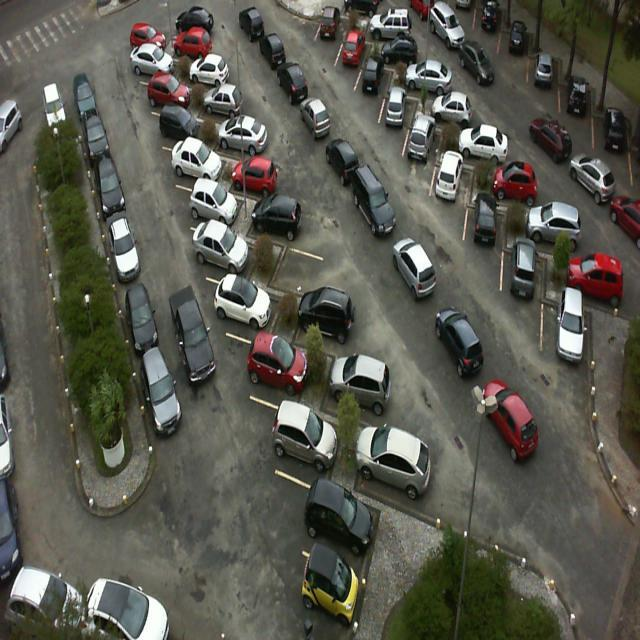space-empty: (272, 235, 337, 297)
space-occupied: (304, 468, 388, 582), (271, 390, 348, 479), (317, 353, 388, 431), (365, 425, 432, 507), (245, 326, 312, 406), (223, 270, 286, 343), (302, 288, 362, 358), (570, 260, 630, 322), (542, 303, 591, 374), (204, 224, 262, 281), (254, 192, 315, 246), (192, 176, 248, 234), (237, 148, 295, 200), (533, 205, 585, 263), (468, 198, 507, 272), (503, 241, 543, 312), (202, 78, 258, 127), (496, 165, 552, 214), (171, 139, 224, 188), (431, 163, 472, 225), (400, 122, 442, 182), (158, 101, 207, 151), (464, 124, 514, 170), (315, 9, 352, 68), (380, 92, 416, 152), (222, 117, 272, 160), (410, 61, 458, 104), (354, 63, 392, 116), (335, 40, 372, 94), (151, 75, 197, 116), (561, 75, 590, 136), (139, 46, 182, 87), (434, 94, 478, 134), (175, 31, 220, 68), (366, 11, 411, 48), (192, 58, 237, 94), (500, 30, 532, 79), (529, 50, 560, 100), (389, 38, 428, 74)
